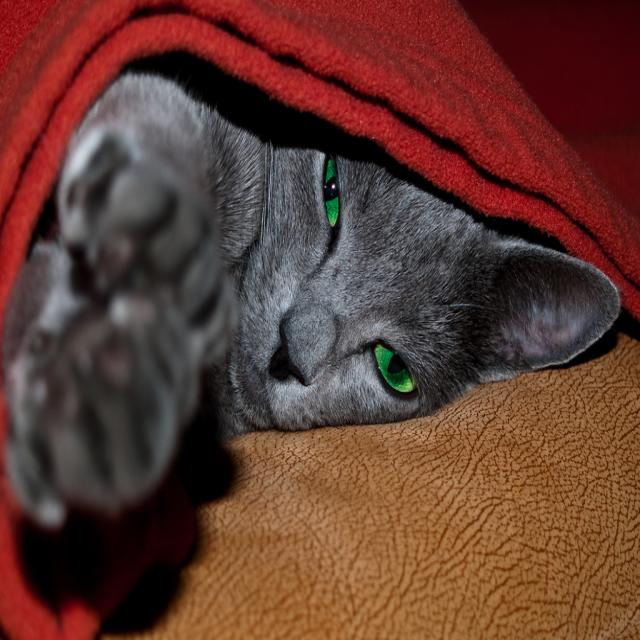Cat: (0, 48, 619, 539)
